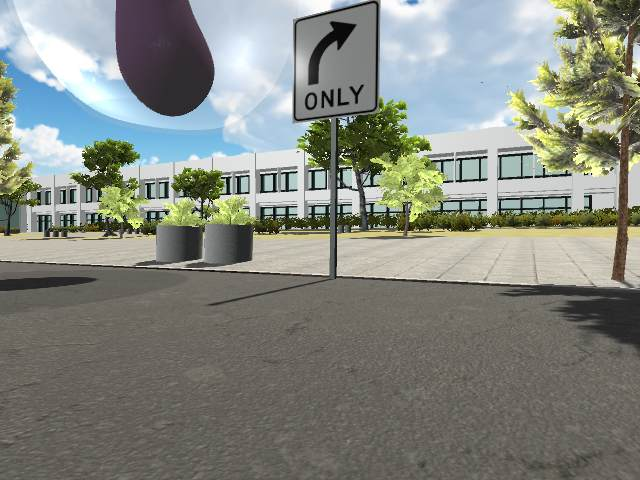arrow_right: (304, 19, 360, 87)
